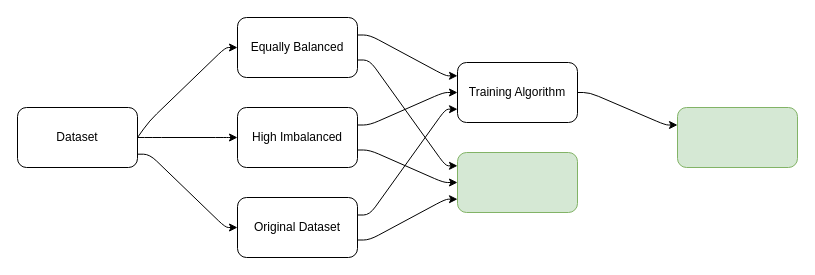
The diagram is 815 pixels wide and 275 high, and some of its shapes have lost their labels. The shapes that lost their labels are listed below. From the top down, each one's box as (x1, y1, x2, y2) in pixels, then its label:
(676, 106, 798, 168): Performance
(456, 152, 578, 212): Pre-training Metrics
